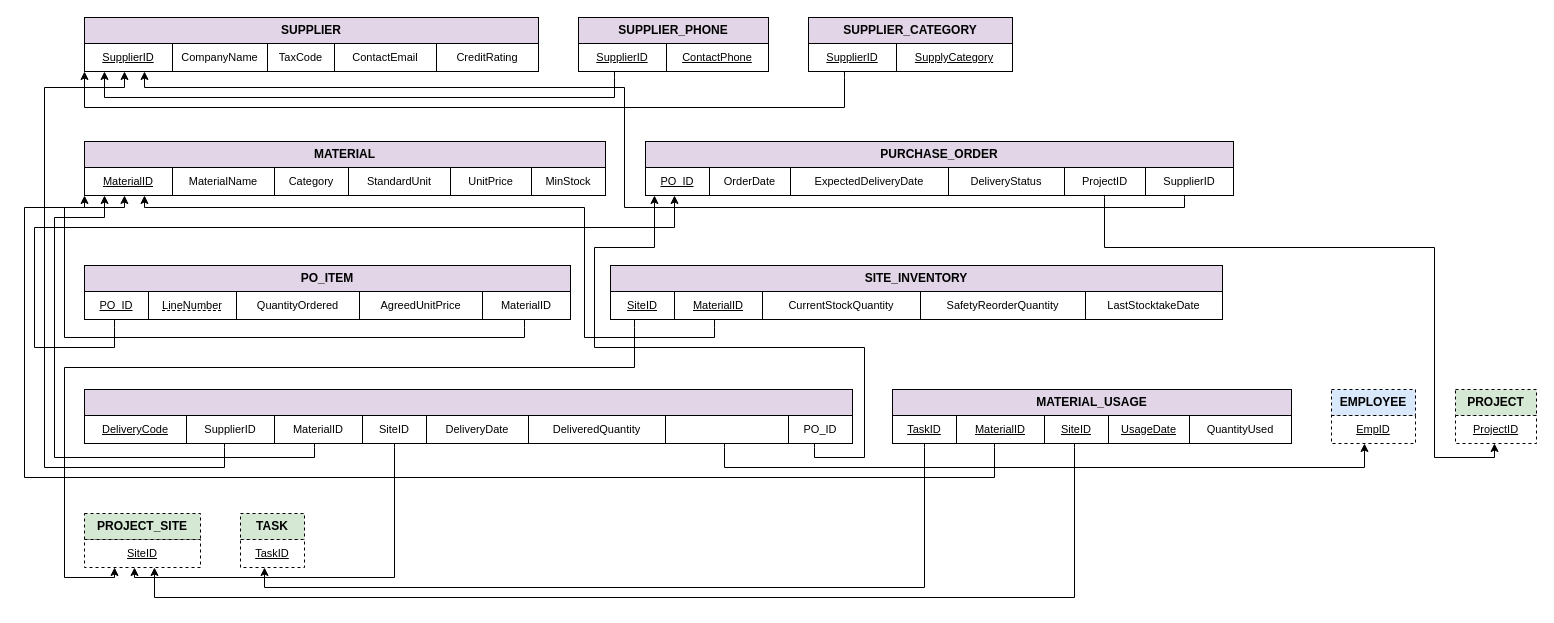
The diagram is 1554 pixels wide and 623 high, and some of its shapes have lost their labels. Here are the shapes that lost their labels. From the top down, the box of each, then its label:
(84, 388, 852, 416): DELIVERY_DISPATCH
(664, 414, 788, 444): ReceivedByEmpID
